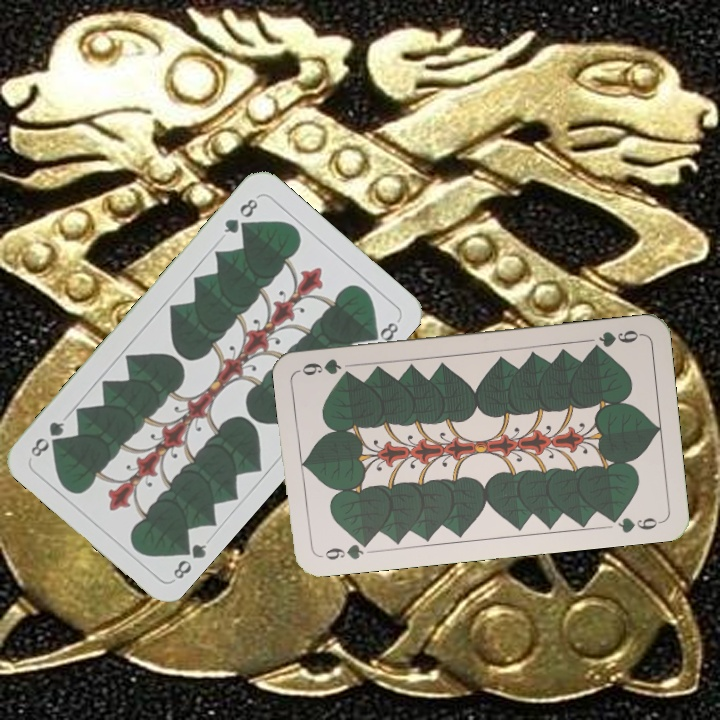G8: (169, 536, 210, 584), (219, 194, 261, 237)
G9: (586, 325, 644, 354), (316, 536, 375, 563)
